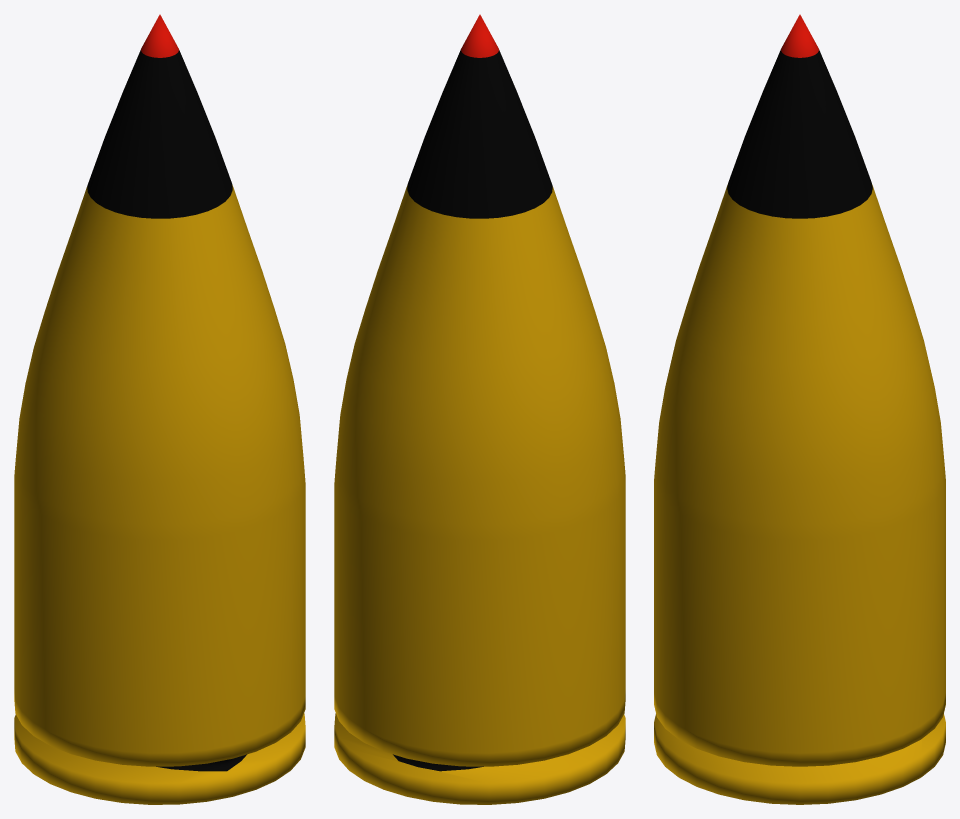
Rendered from ballet.fbx.
The picture shows the model from 3 angles, left to right: view 1: azimuth 30°, elevation 25°; view 2: azimuth 150°, elevation 25°; view 3: azimuth 270°, elevation 25°; orthographic projection.
Visible parts, largest first — view 1: Sphere; view 2: Sphere; view 3: Sphere.
Part boxes in pixels (x1,y1,x2,y2): Sphere: [14, 14, 305, 804]; Sphere: [334, 14, 625, 804]; Sphere: [654, 14, 945, 804].
Bounding box in the file's own units: 200 × 552 × 200.
